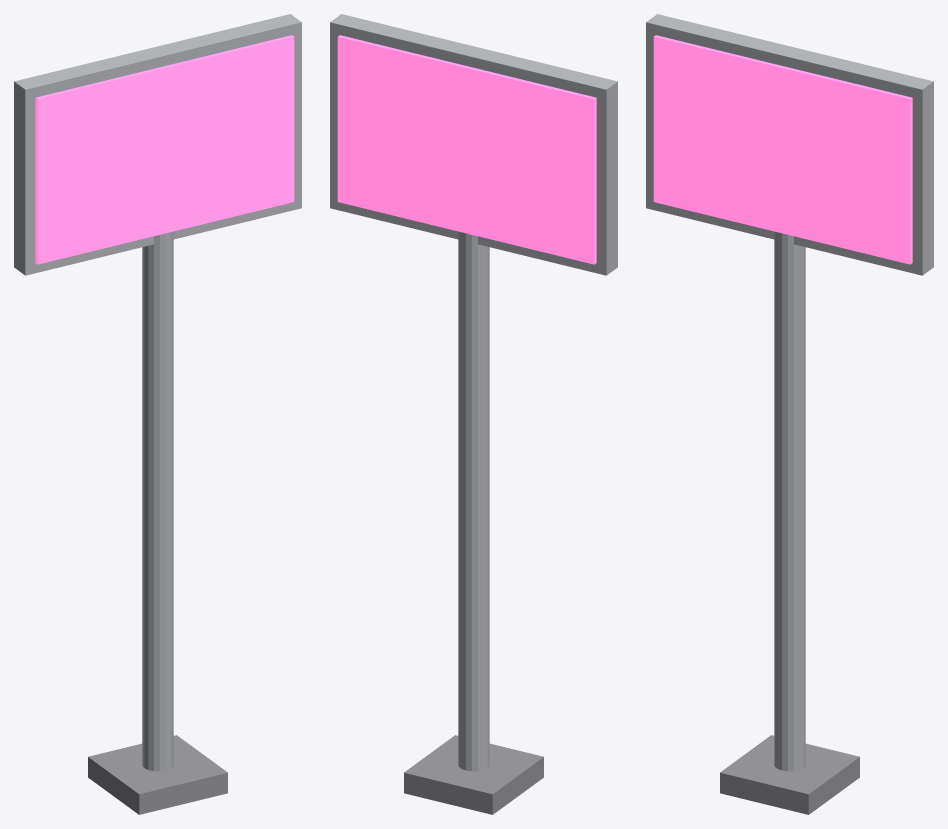
File: bt-signboard-pole.glb
3 renders of one model, left to right at view 1: azimuth 30°, elevation 25°; view 2: azimuth 150°, elevation 25°; view 3: azimuth 330°, elevation 25°, orthographic.
Visible parts, largest first — view 1: sign_face_b, pole, sign, skirt_base; view 2: sign_face_a, pole, sign, skirt_base; view 3: sign_face_b, pole, sign, skirt_base.
Part boxes in pixels (x1,y1,x2,y2): sign_face_b: (35, 35, 294, 264); pole: (142, 231, 173, 771); sign: (14, 14, 301, 275); skirt_base: (88, 735, 227, 814); sign_face_a: (337, 35, 596, 264); pole: (458, 231, 489, 771); sign: (330, 14, 617, 275); skirt_base: (404, 735, 543, 814); sign_face_b: (653, 35, 912, 264); pole: (774, 231, 805, 771); sign: (646, 14, 933, 275); skirt_base: (720, 735, 859, 814).
Bounding box in the file's own units: 1.4 × 3.55 × 0.45.
